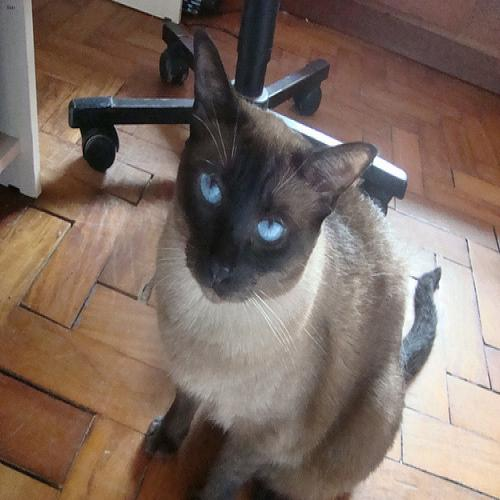siamese: (171, 27, 393, 323)
